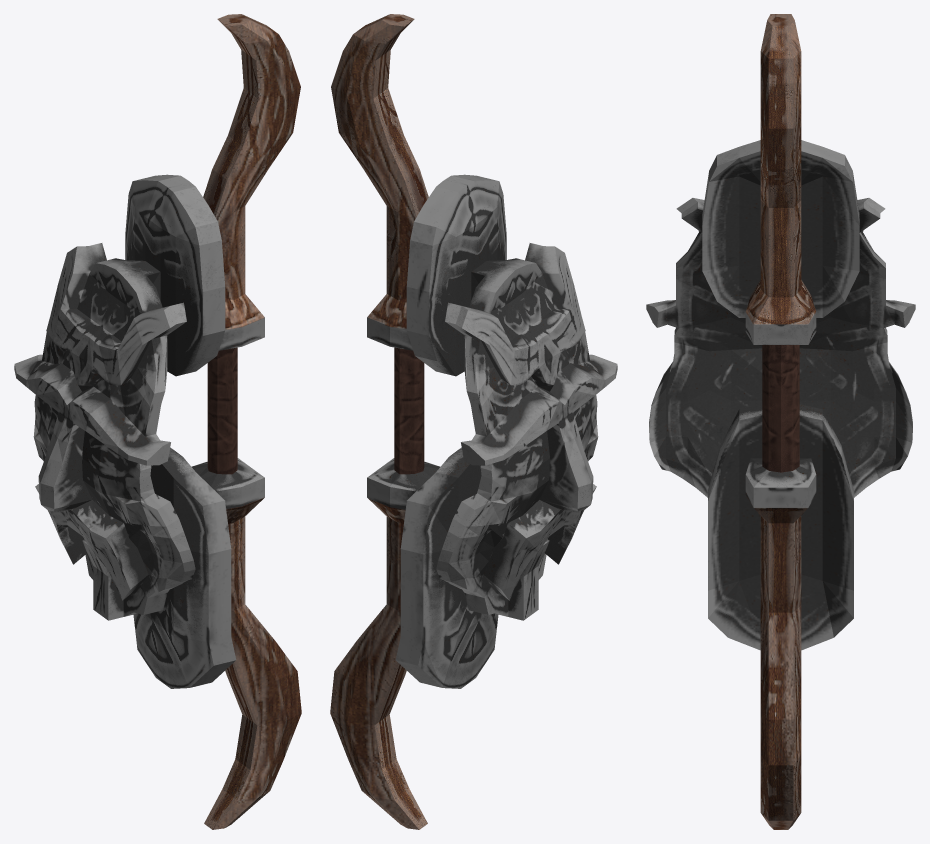
The model's file is Sculpture Bow.fbx.
The picture shows the model from 3 angles, left to right: view 1: azimuth 30°, elevation 25°; view 2: azimuth 150°, elevation 25°; view 3: azimuth 270°, elevation 25°; orthographic projection.
Parts seen in each view (by area): view 1: Sculpture_Bow; view 2: Sculpture_Bow; view 3: Sculpture_Bow.
Boxes of the visible parts, <box> form: Sculpture_Bow: <box>14,14,301,829</box>; Sculpture_Bow: <box>330,14,617,829</box>; Sculpture_Bow: <box>646,14,915,829</box>.
Size of the model in its own units: 173 by 518 by 156.
